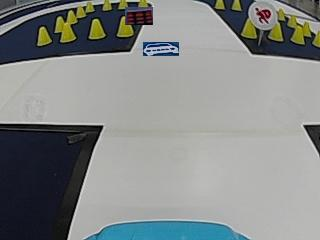thief: (247, 0, 277, 29)
